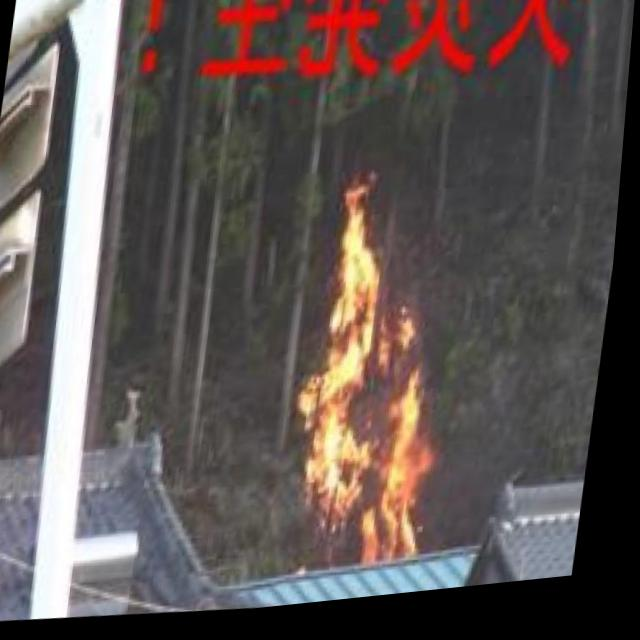Fire: (270, 172, 469, 593)
